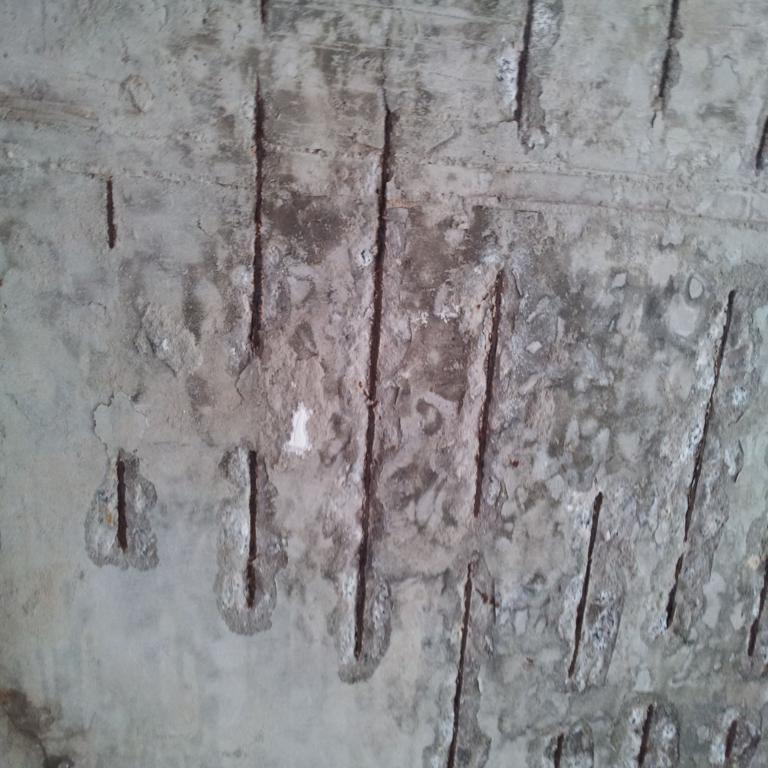exposed_rebar: (352, 102, 393, 666), (685, 290, 734, 542), (472, 270, 506, 518), (567, 492, 603, 678), (446, 562, 472, 768), (249, 74, 266, 357), (652, 1, 682, 112), (513, 0, 534, 130), (244, 450, 258, 608), (747, 555, 768, 657), (666, 555, 682, 626), (636, 705, 653, 768), (116, 456, 126, 552), (754, 116, 768, 172), (106, 178, 117, 249), (723, 720, 737, 768), (554, 734, 564, 768)
spalling: (231, 0, 768, 768), (86, 392, 159, 568), (218, 446, 286, 634)
